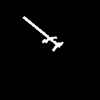double_crochet: (23, 17, 62, 50)
